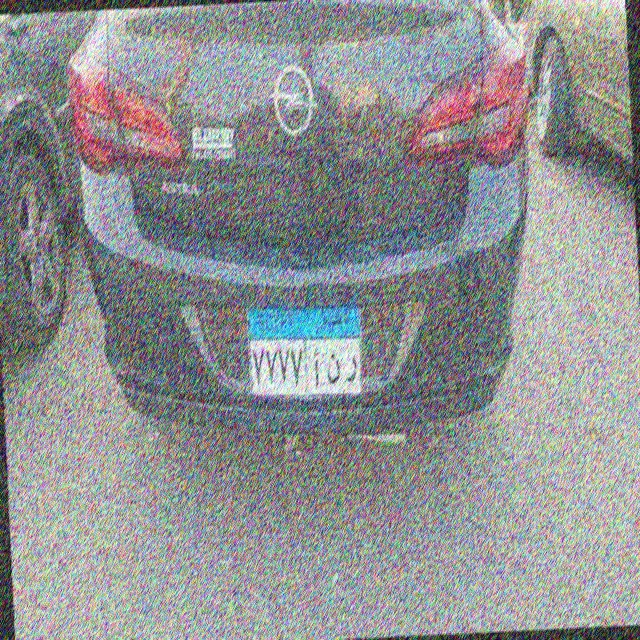License Plate: (243, 303, 366, 404)
